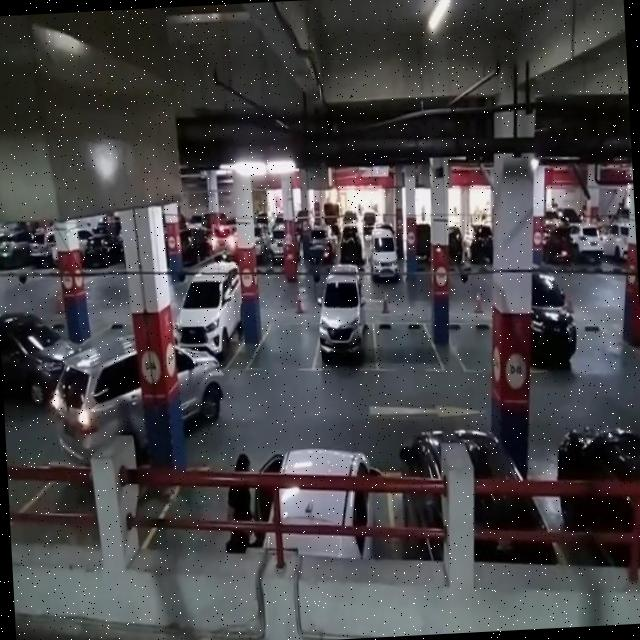empty: (371, 313, 442, 377), (250, 314, 318, 374), (450, 315, 498, 376)
occupied: (173, 268, 244, 376), (313, 288, 375, 376)
